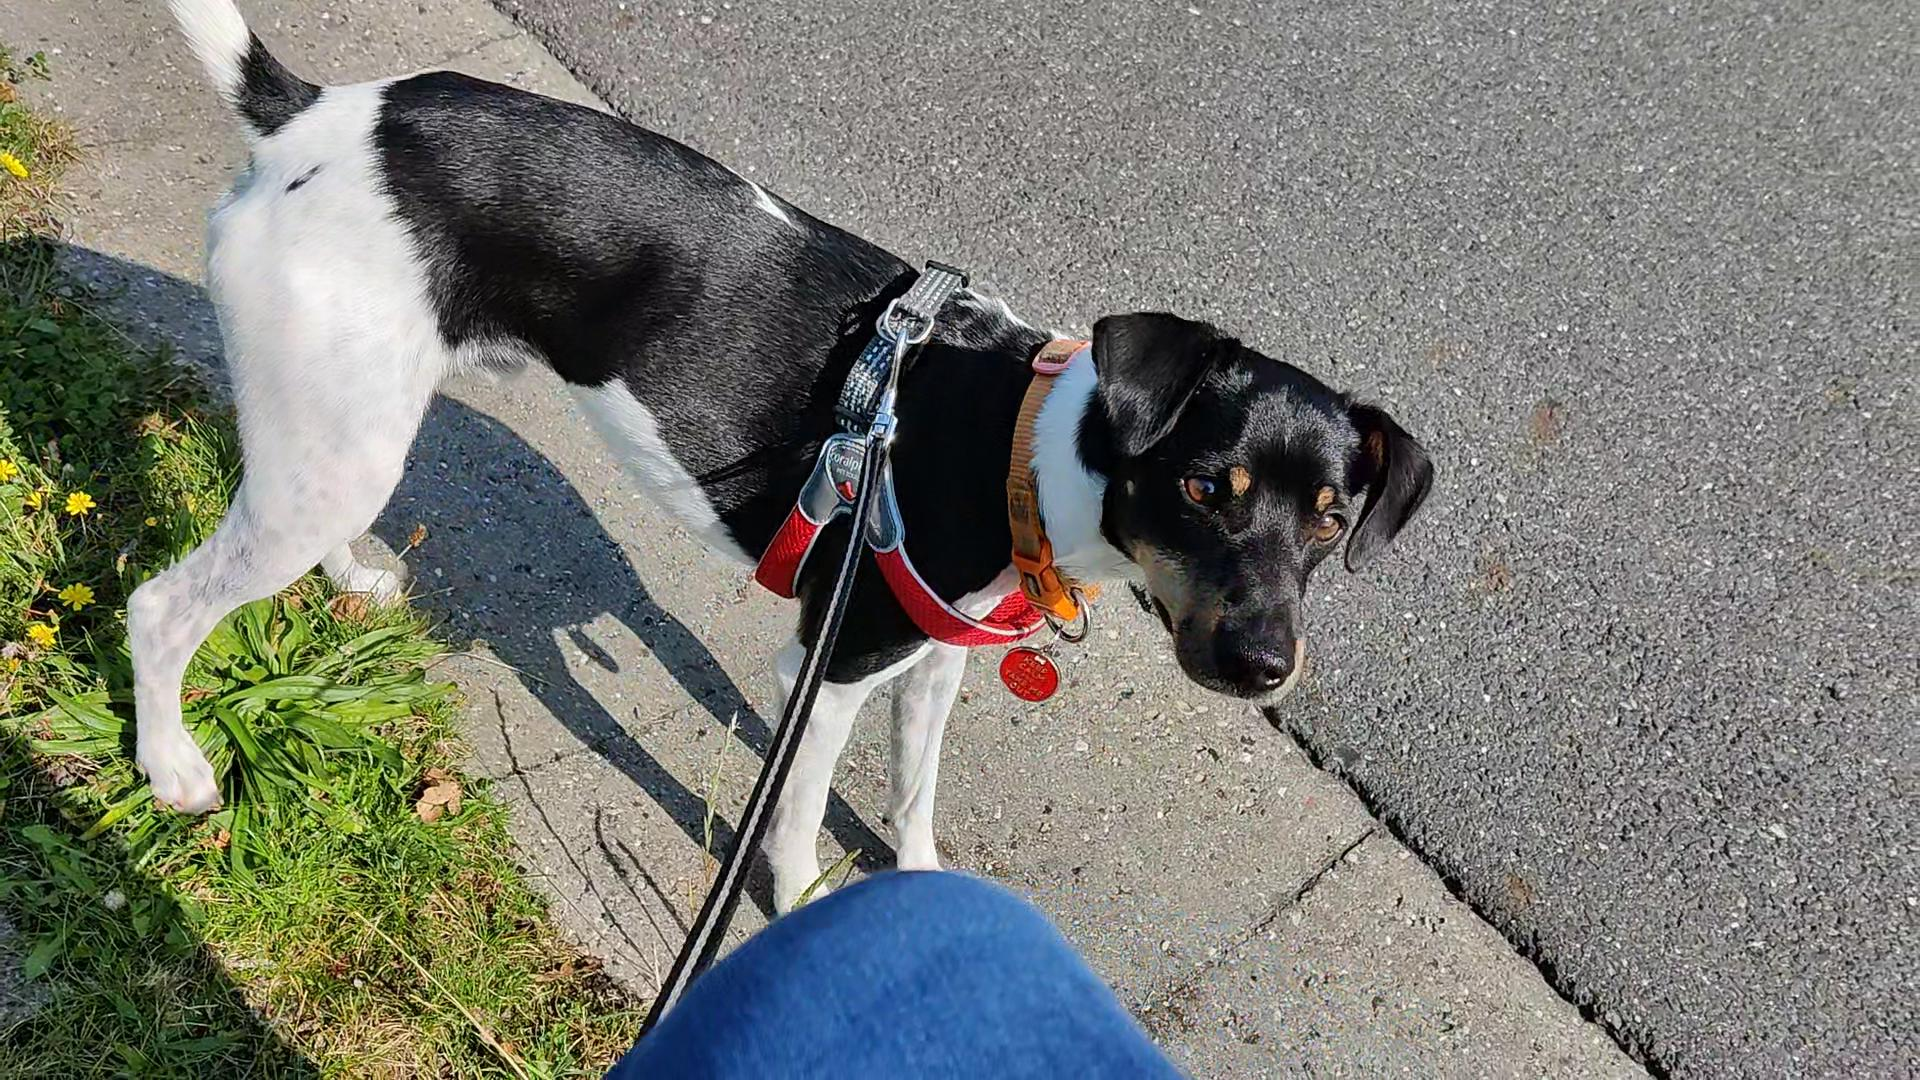Dog: (117, 0, 1441, 920)
